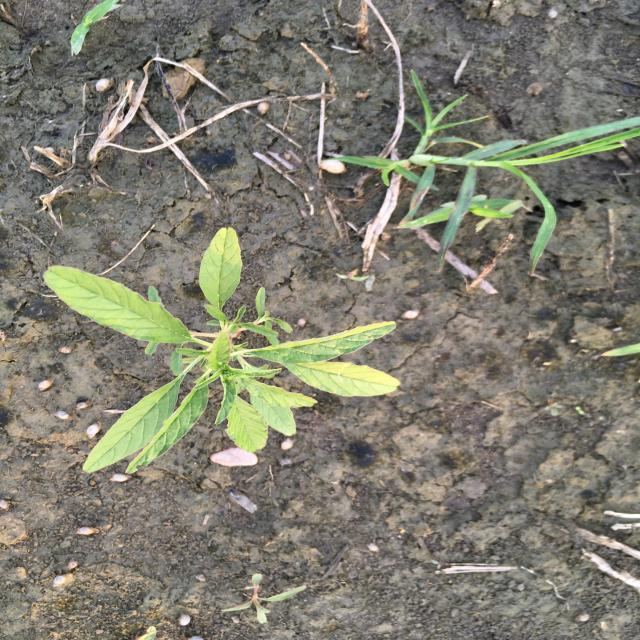Goosegrass: (316, 69, 636, 278)
Waterhemp: (38, 227, 405, 477)
